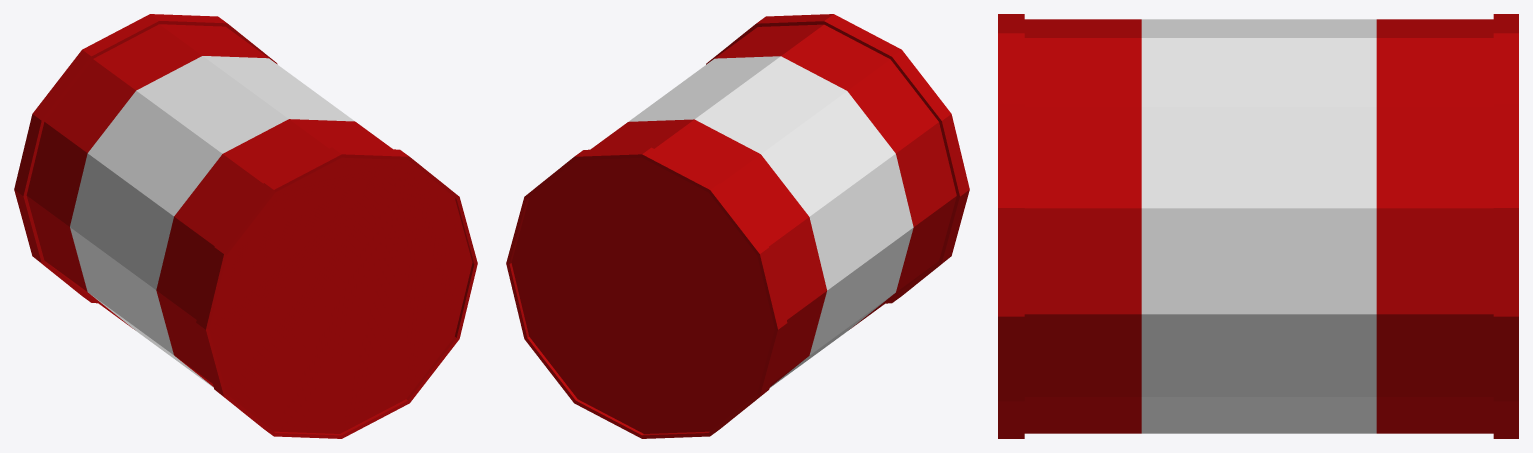
The model's file is barrel.fbx.
3 views of the same model, side by side, from view 1: azimuth 30°, elevation 25°; view 2: azimuth 150°, elevation 25°; view 3: azimuth 270°, elevation 25° (orthographic). The views are drawn at different scales.
Parts seen in each view (by area): view 1: Barrel; view 2: Barrel; view 3: Barrel.
Part boxes in pixels (left/top/right/bottom): Barrel: left=14, top=14, right=477, bottom=438; Barrel: left=506, top=14, right=969, bottom=438; Barrel: left=998, top=14, right=1518, bottom=438.
Bounding box in the file's own units: 82 × 82 × 100.
